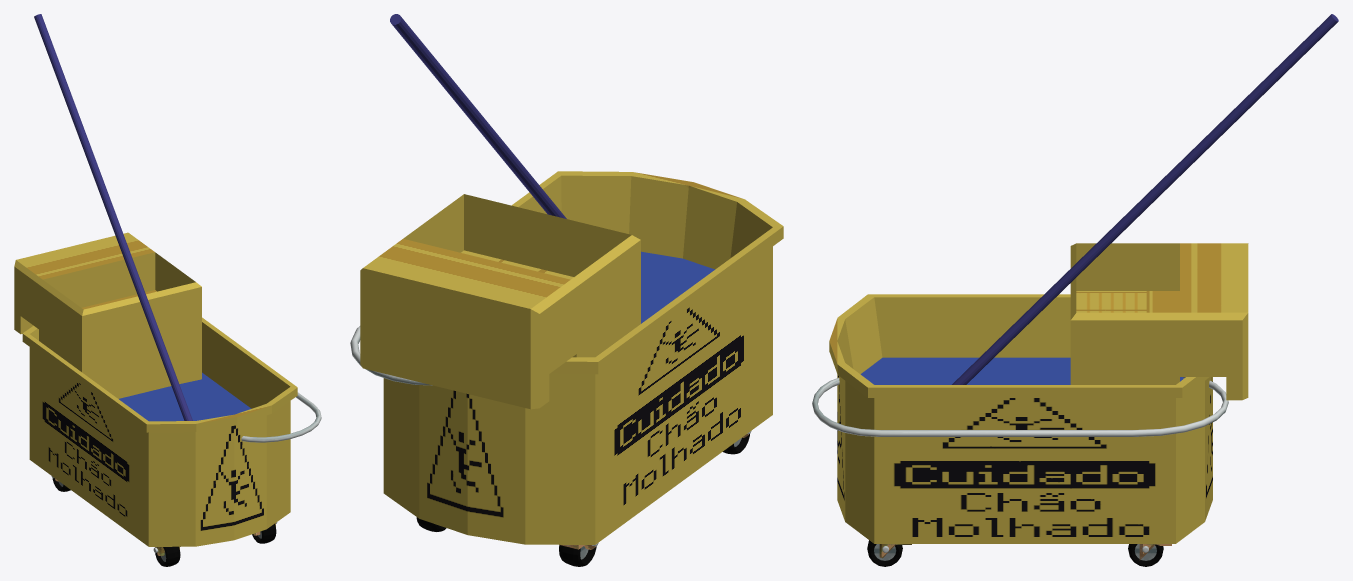
The model's file is limpeza.fbx.
The picture shows the model from 3 angles, left to right: view 1: azimuth 30°, elevation 25°; view 2: azimuth 150°, elevation 25°; view 3: azimuth 270°, elevation 25°; orthographic projection. The views are drawn at different scales.
Visible parts, largest first — view 1: Cube, Cube.001, Cylinder, Cube.005, Torus, BézierCurve; view 2: Cube, Cube.001, Cylinder, Cube.005, Torus, BézierCurve; view 3: Cube, Cube.001, Cylinder, Cube.005, BézierCurve, Torus.
Boxes of the visible parts, x1,y1,x2,y2 form: Cube: (22,317,297,546); Cube.001: (14,232,201,398); Cylinder: (34,14,192,420); Cube.005: (119,372,251,421); Torus: (52,478,276,566); BézierCurve: (241,392,321,442); Cube: (383,171,783,544); Cube.001: (360,194,640,409); Cylinder: (390,14,566,218); Cube.005: (641,251,714,323); Torus: (416,434,749,566); BézierCurve: (350,326,432,385); Cube: (829,294,1212,543); Cube.001: (1070,243,1248,400); Cylinder: (952,14,1338,384); Cube.005: (860,357,1183,384); BézierCurve: (812,377,1228,436); Torus: (867,540,1163,566).
Bounding box in the file's own units: 288 × 654 × 600.
Materials: 6 (5 with a texture image).
